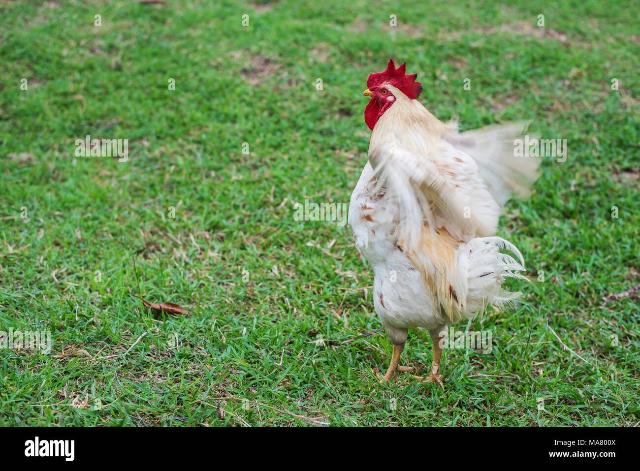Chicken: (349, 59, 544, 385)
